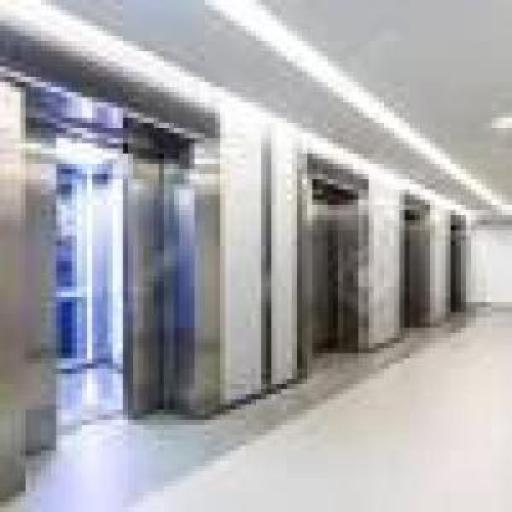closet: (24, 87, 220, 452), (298, 155, 368, 369), (401, 194, 432, 328), (447, 213, 468, 314)
